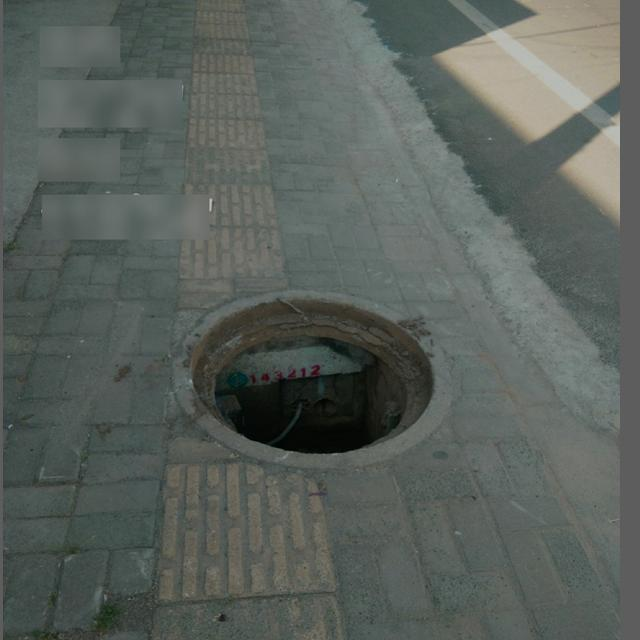lose: (171, 289, 454, 472)
